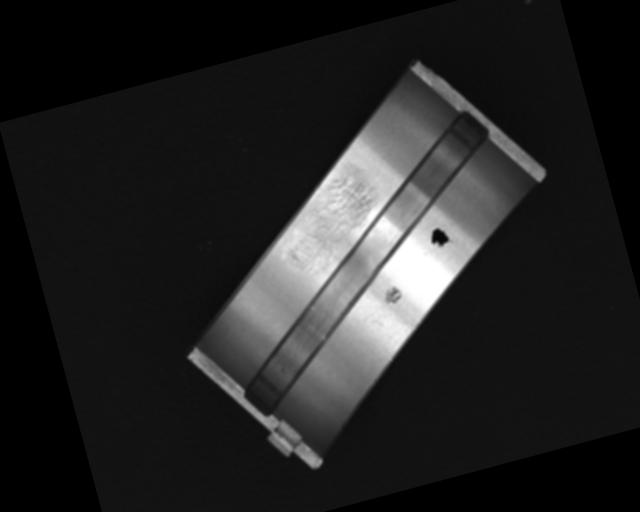blot: (427, 224, 454, 252)
bruise: (381, 284, 405, 308)
gap: (190, 109, 537, 418)
scratch: (271, 171, 391, 281)
